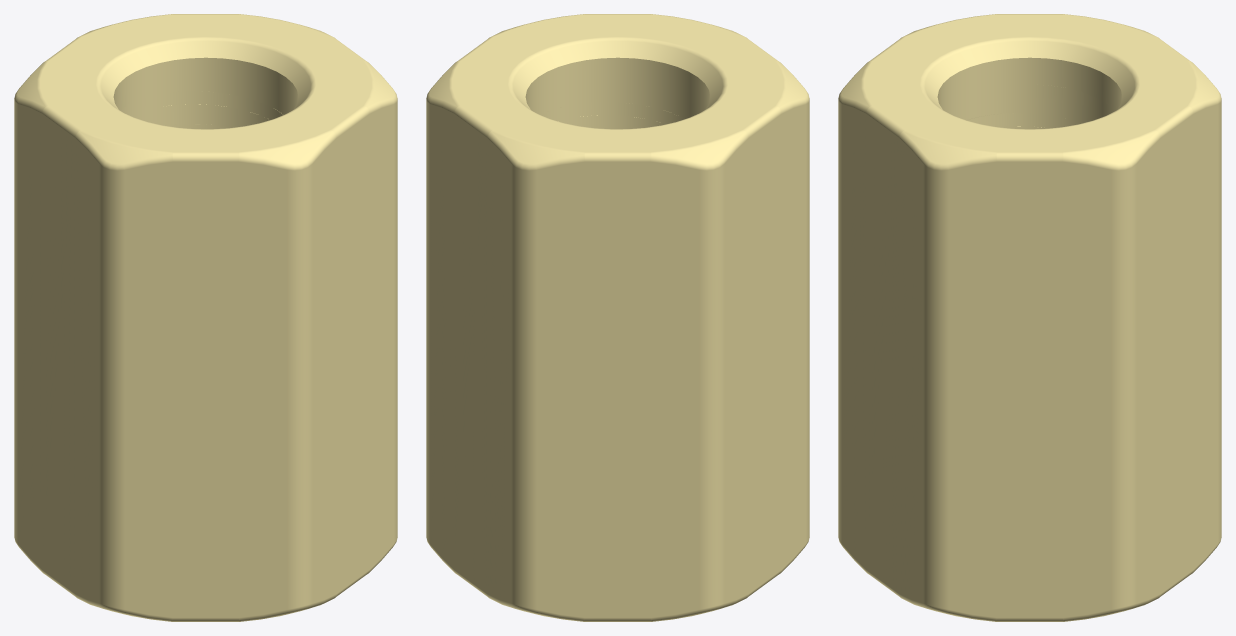
Rendered from spacer_standoff_M2.5_F-F_copper_6mm.glb.
The picture shows the model from 3 angles, left to right: view 1: azimuth 30°, elevation 25°; view 2: azimuth 150°, elevation 25°; view 3: azimuth 270°, elevation 25°; orthographic projection.
Visible parts, largest first — view 1: Solid1, Srf1; view 2: Solid1, Srf1; view 3: Solid1, Srf1.
Boxes of the visible parts, x1,y1,x2,y2 form: Solid1: (14,14,397,621); Srf1: (120,91,283,129); Solid1: (426,14,809,621); Srf1: (541,102,684,124); Solid1: (838,14,1221,621); Srf1: (966,84,1114,128).
Bounding box in the file's own units: 0.0046 × 0.007 × 0.00519.
